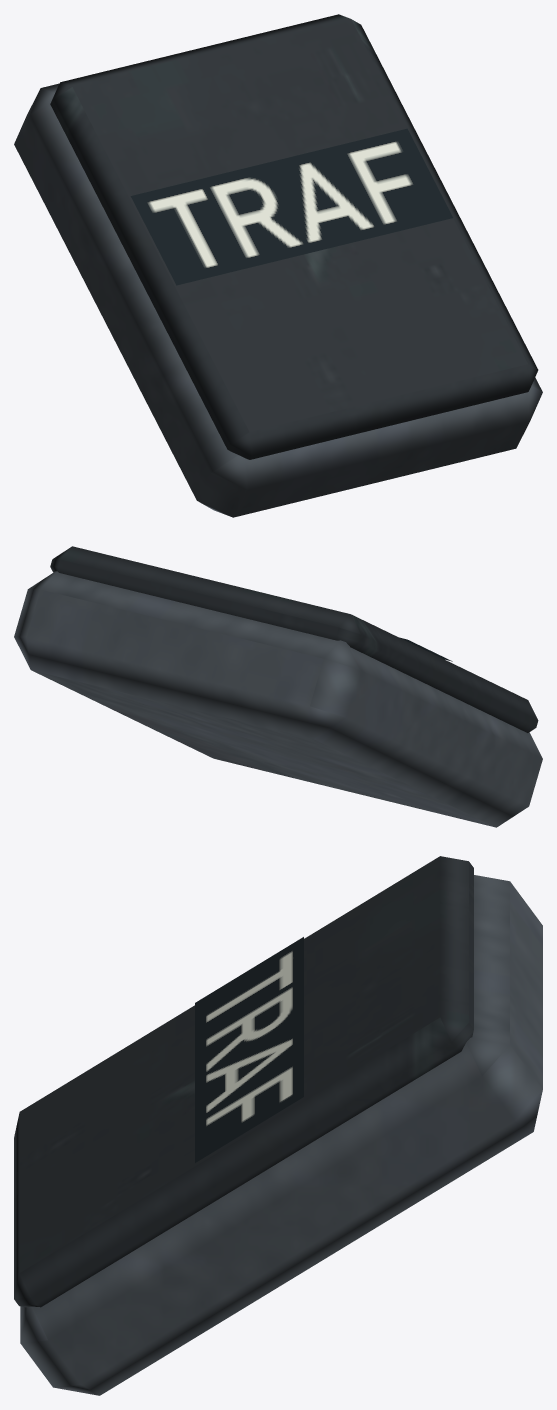
The model's file is prop_key_traffic.fbx.
3 views of the same model, one above another, from view 1: azimuth 30°, elevation 25°; view 2: azimuth 150°, elevation 25°; view 3: azimuth 270°, elevation 25° (orthographic). The views are drawn at different scales.
Visible parts, largest first — view 1: SM_prop_key_traffic; view 2: SM_prop_key_traffic; view 3: SM_prop_key_traffic.
Boxes of the visible parts, left/top/right/bottom form: SM_prop_key_traffic: left=14, top=14, right=542, bottom=517; SM_prop_key_traffic: left=14, top=546, right=542, bottom=827; SM_prop_key_traffic: left=14, top=856, right=542, bottom=1395.
Size of the model in its own units: 0.054 by 0.0494 by 0.0628.
Materials: 3 (3 with a texture image).
